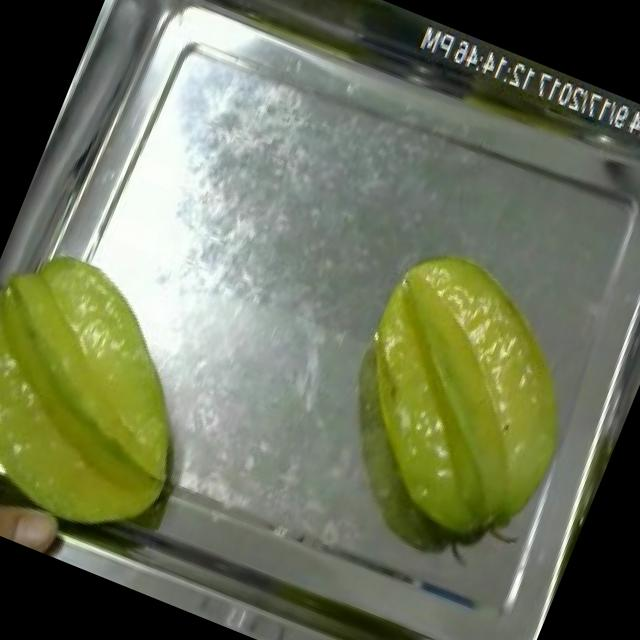fruit: (294, 220, 630, 582), (0, 223, 245, 565)
